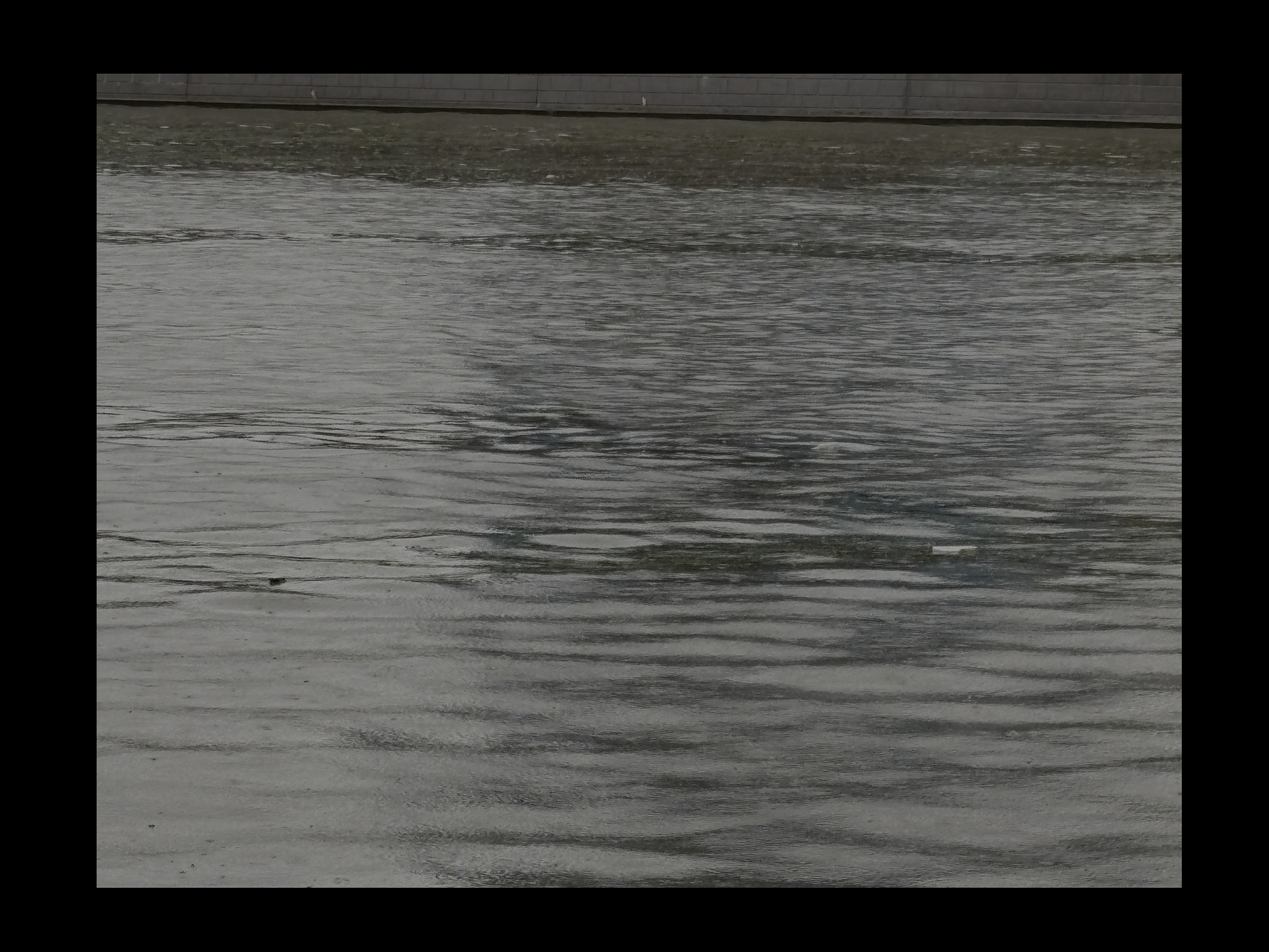Plastic wastes: (921, 539, 983, 559), (268, 572, 290, 586)
